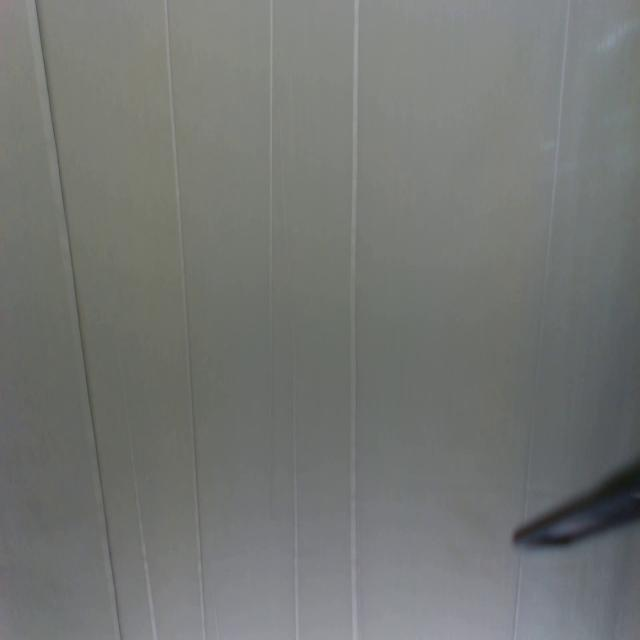crease: (34, 0, 120, 640), (165, 0, 208, 640), (524, 0, 572, 507), (126, 410, 157, 638), (350, 1, 361, 639), (268, 0, 274, 510), (291, 324, 300, 640), (509, 554, 524, 640)
